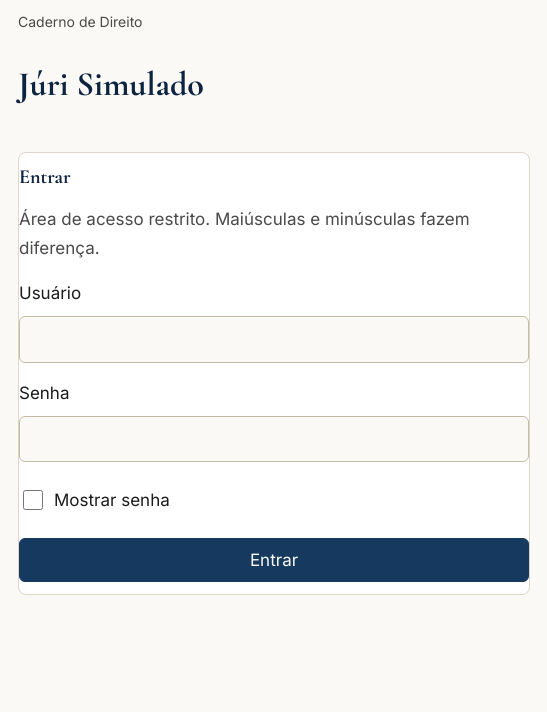
Test case: AreaJuri: entrada › limite de tentativas mostra os segundos de espera
This screenshot has width=547, height=712.
Type "admin" into the field named "usuario". click: (274, 339)
box: [19,316,529,363]
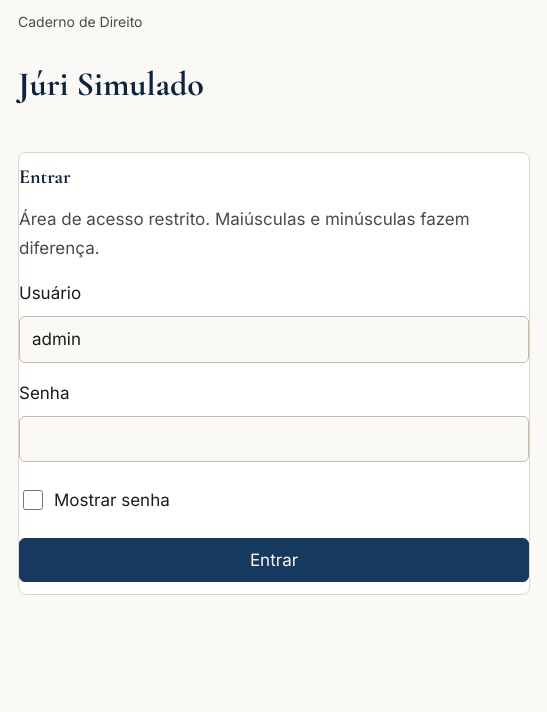
Type "provisoria-sintetica-de-teste" into the password field named "senha". click: (274, 439)
box: [19,416,529,462]
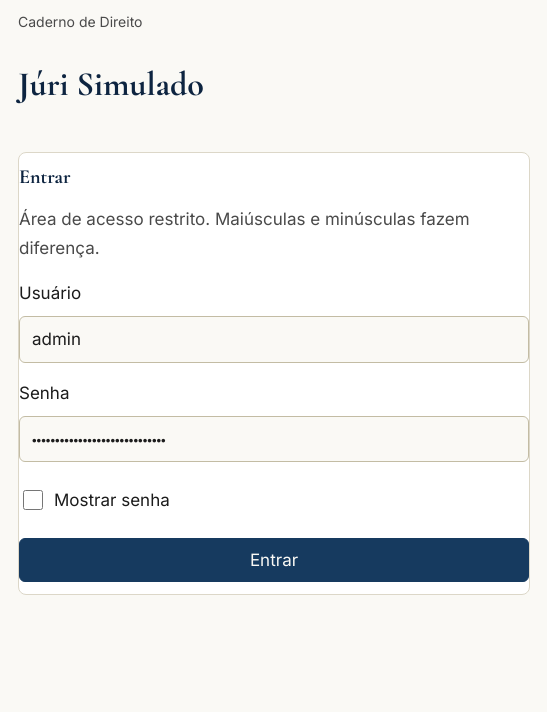
Submit the form, box [18,152,530,595]
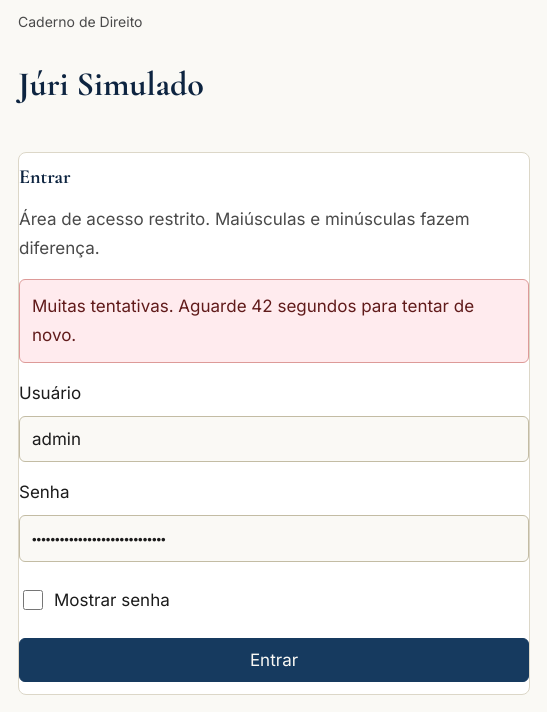
Result: the message "Muitas tentativas. Aguarde 42 segundos para tentar de novo." is shown at [19,279,529,363]
